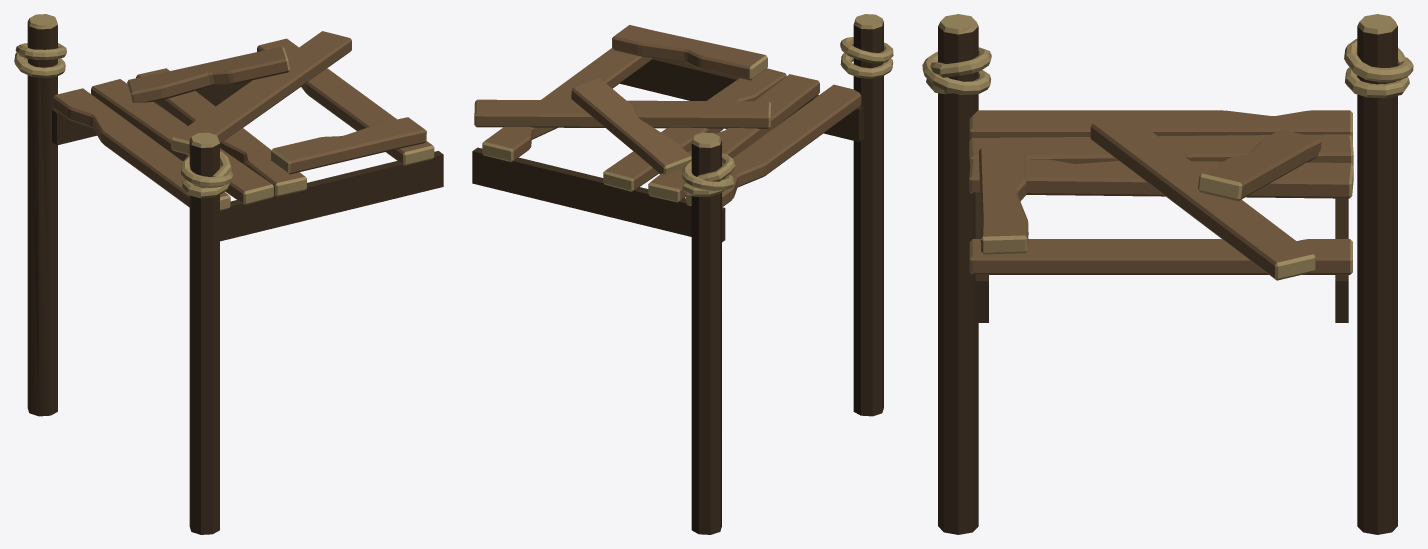
Rendered from cc0-dock-broken.glb.
The picture shows the model from 3 angles, left to right: view 1: azimuth 30°, elevation 25°; view 2: azimuth 150°, elevation 25°; view 3: azimuth 270°, elevation 25°; orthographic projection. The views are drawn at different scales.
Visible parts, largest first — view 1: cc0-dock-broken; view 2: cc0-dock-broken; view 3: cc0-dock-broken.
Boxes of the visible parts, bbox=[...] form: cc0-dock-broken: bbox=[14, 14, 443, 534]; cc0-dock-broken: bbox=[472, 14, 893, 534]; cc0-dock-broken: bbox=[922, 14, 1413, 534].
Bounding box in the file's own units: 5.39 × 6.8 × 6.
